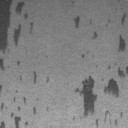red iron: (75, 66, 128, 128), (0, 0, 34, 70), (0, 85, 36, 128), (105, 13, 126, 51), (20, 72, 50, 84), (74, 16, 80, 28), (92, 32, 98, 40), (16, 60, 20, 66), (82, 53, 85, 58)
